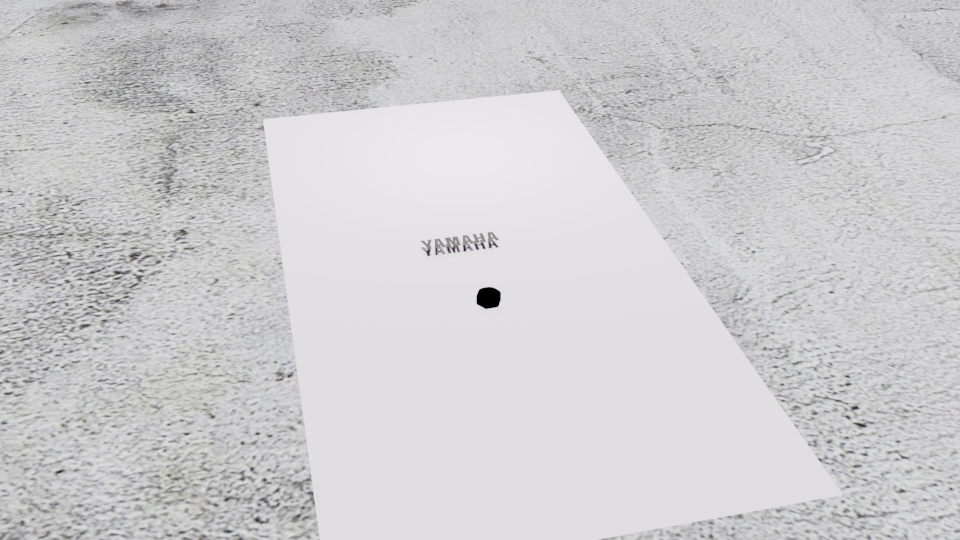yamaha_letters: (419, 231, 499, 250)
